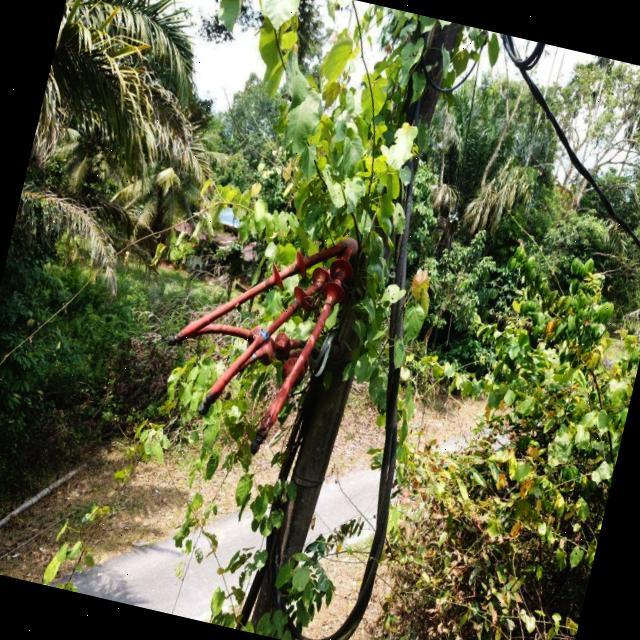critical vegetation: (130, 11, 481, 640)
